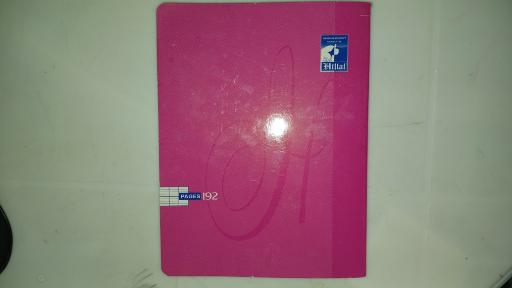notebook: (159, 1, 371, 279)
